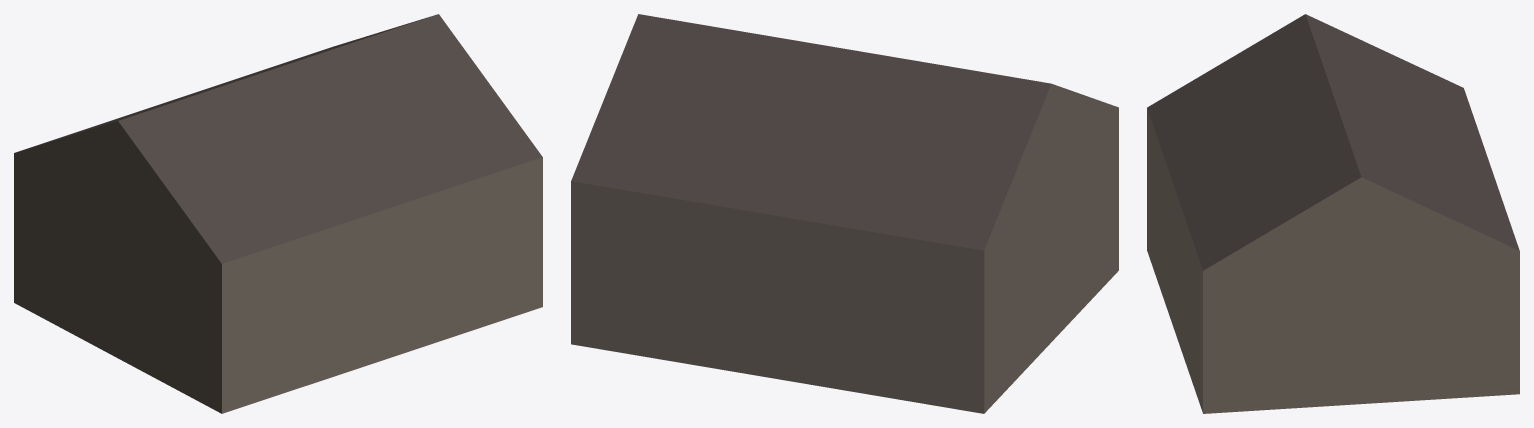
3 renders of one model, left to right at view 1: azimuth 30°, elevation 25°; view 2: azimuth 150°, elevation 25°; view 3: azimuth 270°, elevation 25°, orthographic. The views are drawn at different scales.
Visible parts, largest first — view 1: HP-w1376988712; view 2: HP-w1376988712; view 3: HP-w1376988712.
Part boxes in pixels (bbox=[...]): HP-w1376988712: bbox=[14, 14, 542, 413]; HP-w1376988712: bbox=[571, 14, 1118, 413]; HP-w1376988712: bbox=[1147, 14, 1519, 413].
Size of the model in its own units: 16.44 by 9.51 by 14.16.
